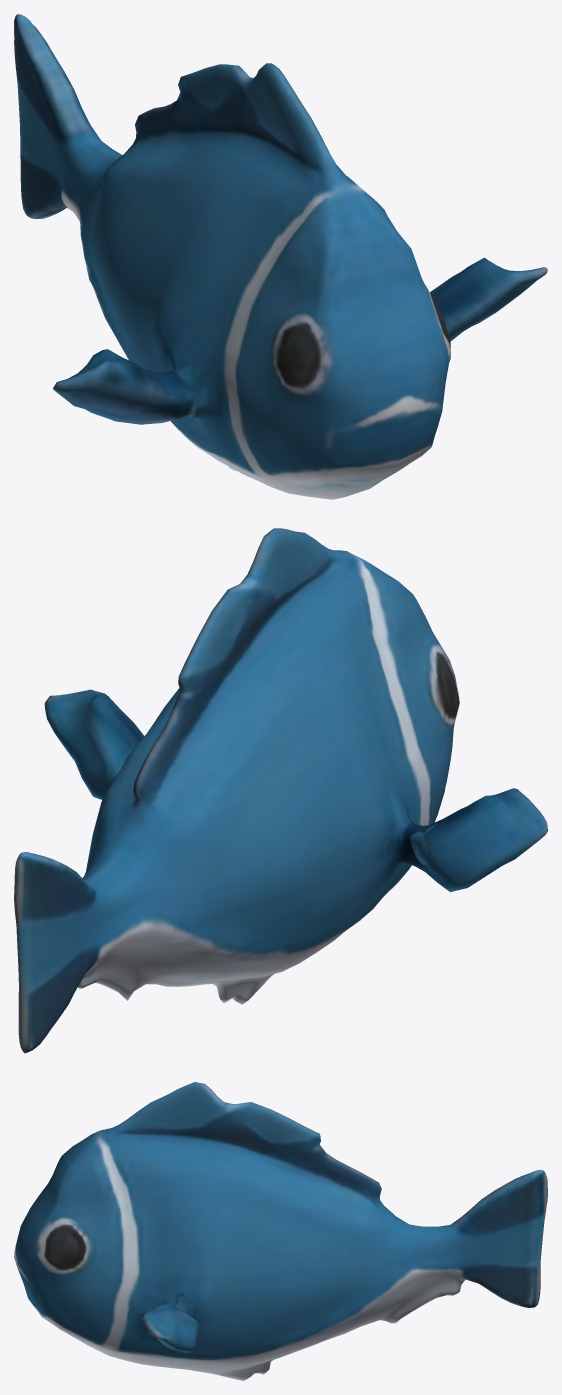
File: fish_03.glb
3 views of the same model, one above another, from view 1: azimuth 30°, elevation 25°; view 2: azimuth 150°, elevation 25°; view 3: azimuth 270°, elevation 25° (orthographic). The views are drawn at different scales.
Visible parts, largest first — view 1: mesh; view 2: mesh; view 3: mesh.
Part boxes in pixels (x1,y1,x2,y2): mesh: (14,14,547,499); mesh: (14,528,547,1053); mesh: (14,1082,547,1380).
Size of the model in its own units: 0.7312 by 0.6153 by 0.9955.
Materials: 1 (1 with a texture image).
